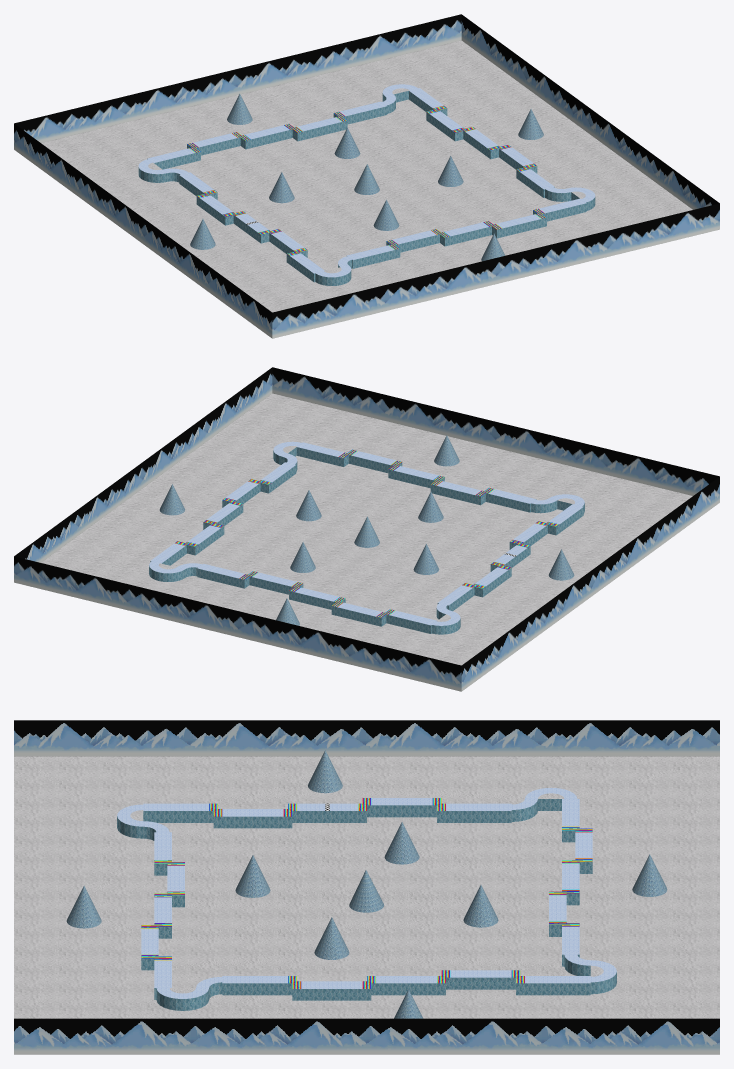
The picture shows the model from 3 angles, top to bottom: view 1: azimuth 30°, elevation 25°; view 2: azimuth 150°, elevation 25°; view 3: azimuth 270°, elevation 25°; orthographic projection. The views are drawn at different scales.
Parts seen in each view (by area): view 1: course-SKP--solid_fall_snow.001, course-SKP--snow_sfondo_mountains.001, course-SKP--frost_wall.001, course-SKP--frost_road.001, course-SKP--frost_wall_mountain.001, course-SKP--boost1.002, course-SKP--boost2.002; view 2: course-SKP--solid_fall_snow.001, course-SKP--snow_sfondo_mountains.001, course-SKP--frost_wall.001, course-SKP--frost_road.001, course-SKP--frost_wall_mountain.001, course-SKP--boost1.002, course-SKP--boost2.002; view 3: course-SKP--solid_fall_snow.001, course-SKP--snow_sfondo_mountains.001, course-SKP--frost_wall.001, course-SKP--frost_road.001, course-SKP--frost_wall_mountain.001, course-SKP--boost2.002, course-SKP--boost1.002.
Part boxes in pixels (x1=…): course-SKP--solid_fall_snow.001: x1=41, y1=40, x2=692, y2=312; course-SKP--snow_sfondo_mountains.001: x1=14, y1=14, x2=719, y2=338; course-SKP--frost_wall.001: x1=138, y1=91, x2=595, y2=285; course-SKP--frost_road.001: x1=138, y1=84, x2=595, y2=277; course-SKP--frost_wall_mountain.001: x1=190, y1=93, x2=543, y2=261; course-SKP--boost1.002: x1=197, y1=105, x2=536, y2=255; course-SKP--boost2.002: x1=187, y1=112, x2=546, y2=249; course-SKP--solid_fall_snow.001: x1=41, y1=393, x2=692, y2=665; course-SKP--snow_sfondo_mountains.001: x1=14, y1=367, x2=719, y2=691; course-SKP--frost_wall.001: x1=149, y1=447, x2=584, y2=634; course-SKP--frost_road.001: x1=149, y1=441, x2=584, y2=625; course-SKP--frost_wall_mountain.001: x1=159, y1=435, x2=574, y2=625; course-SKP--boost1.002: x1=175, y1=479, x2=559, y2=588; course-SKP--boost2.002: x1=239, y1=449, x2=494, y2=617; course-SKP--solid_fall_snow.001: x1=14, y1=756, x2=719, y2=1018; course-SKP--snow_sfondo_mountains.001: x1=14, y1=720, x2=719, y2=1054; course-SKP--frost_wall.001: x1=117, y1=799, x2=616, y2=1010; course-SKP--frost_road.001: x1=117, y1=788, x2=616, y2=998; course-SKP--frost_wall_mountain.001: x1=66, y1=750, x2=667, y2=1018; course-SKP--boost2.002: x1=141, y1=826, x2=592, y2=960; course-SKP--boost1.002: x1=209, y1=798, x2=524, y2=988.
Bounding box in the file's own units: 161000 × 9000 × 161000.
10 materials, 10 textured.
